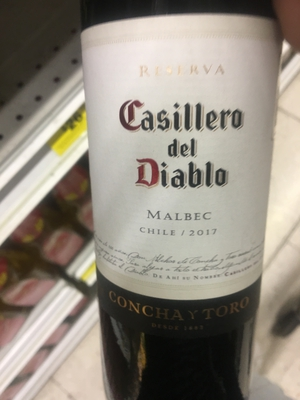casillero del diablo malbec: (72, 12, 300, 375)
